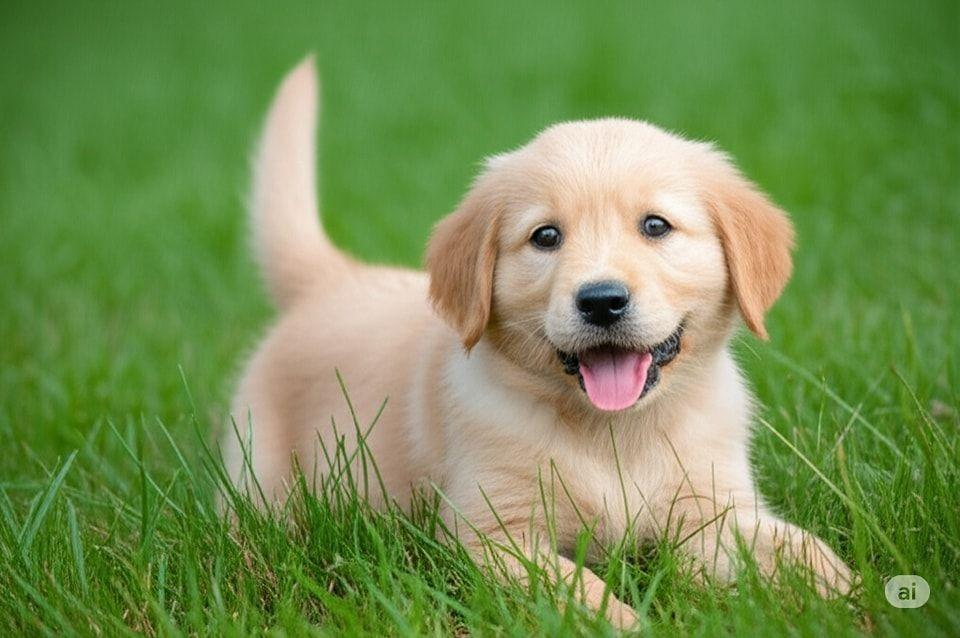puppy-dog: (213, 41, 868, 638)
